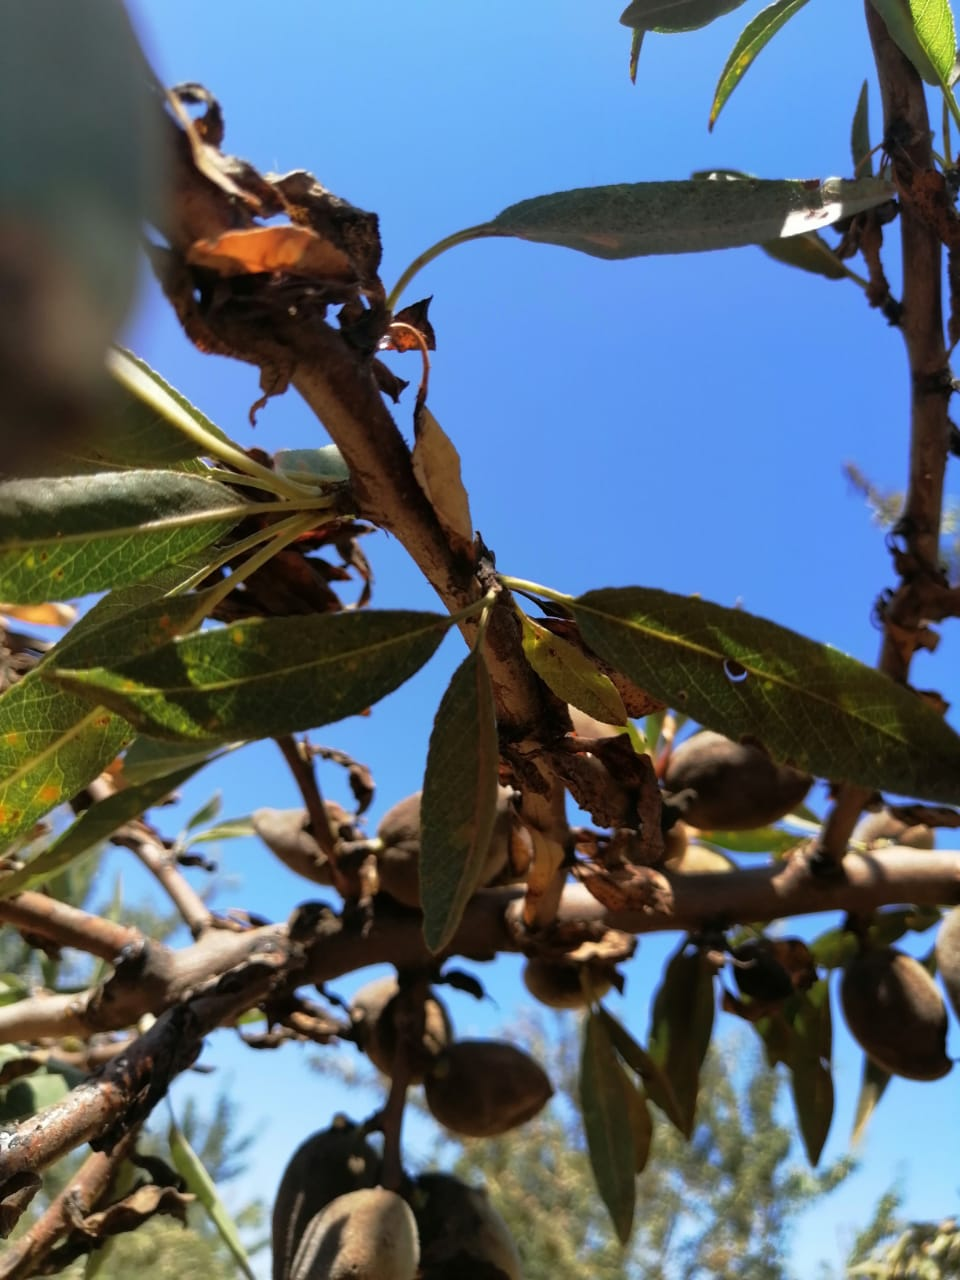scolytes: (152, 83, 686, 917)
